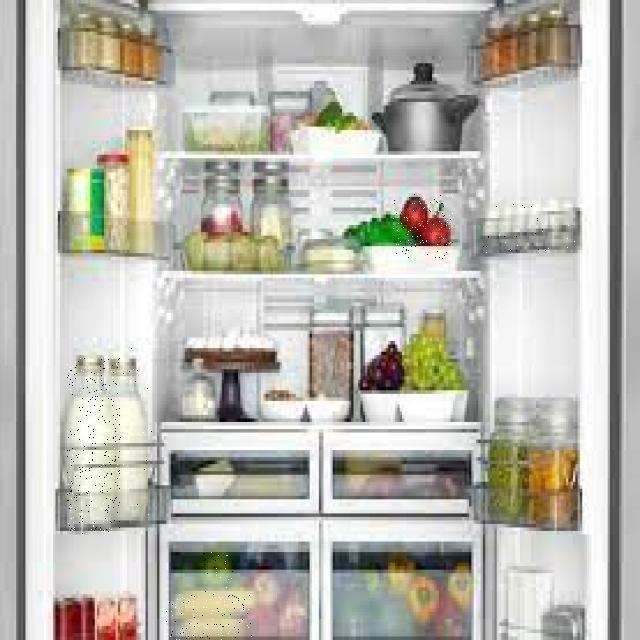apple: (393, 194, 453, 260), (201, 552, 233, 594)
banana: (166, 594, 252, 640)
eggs: (483, 201, 587, 253)
milk: (67, 358, 120, 534), (106, 348, 152, 528)
